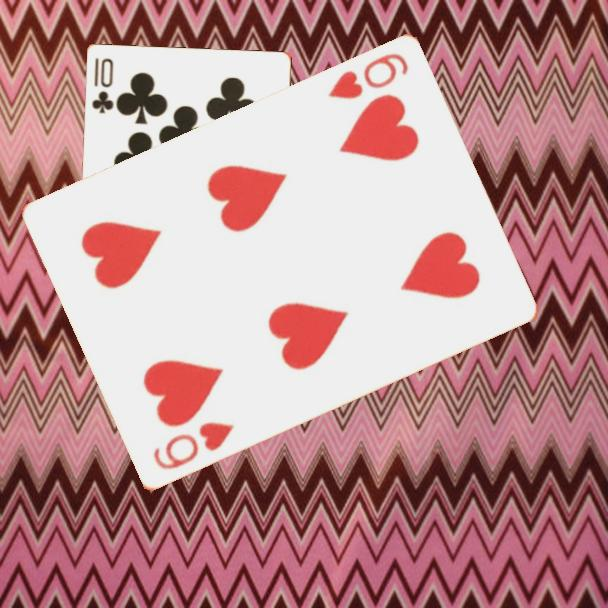c10: (89, 55, 117, 117)
h06: (149, 419, 237, 473), (324, 50, 412, 103)
